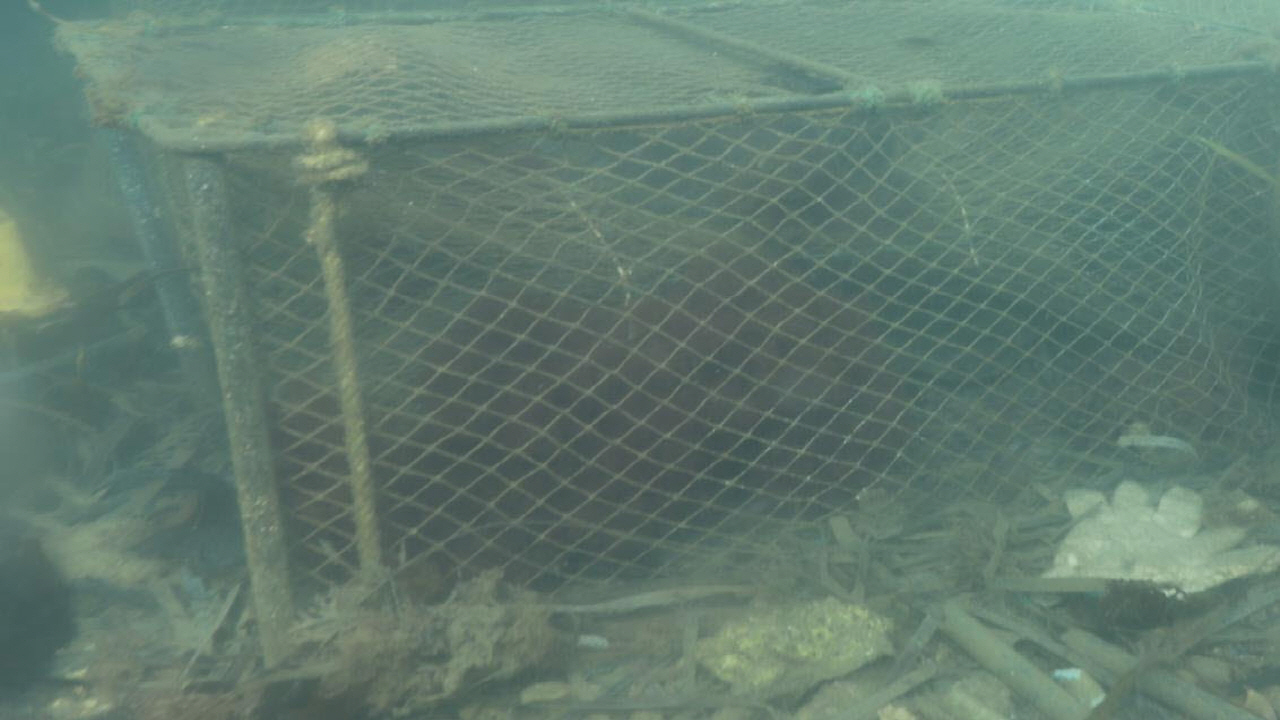rectangular fish trap: (51, 8, 1280, 668)
